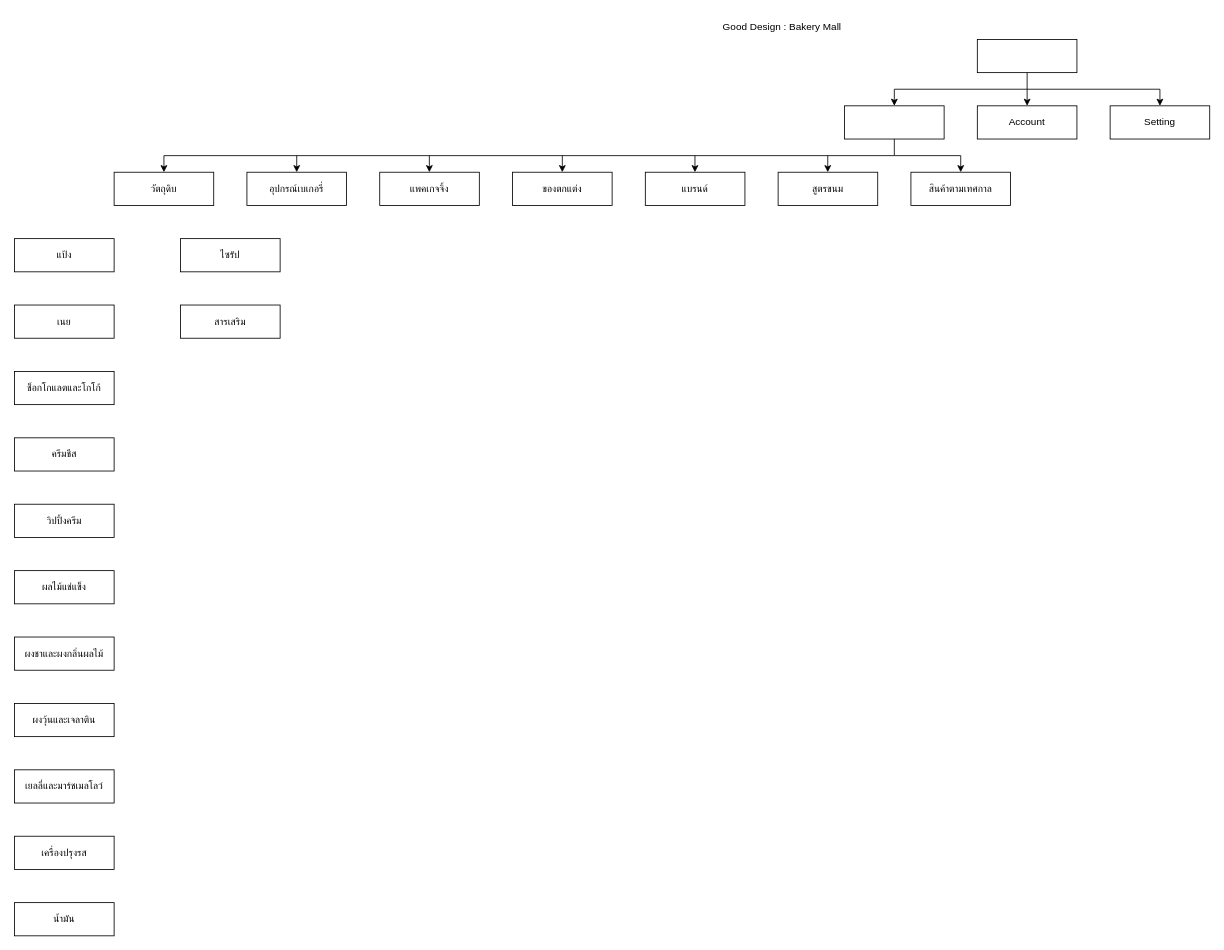
The diagram is 1224 pixels wide and 950 high, and some of its shapes have lost their labels. The shapes that lost their labels are listed below. From the top down, each one's box as (x1, y1, x2, y2) in pixels, then its label:
(976, 39, 1077, 73): หน้าหลัก
(844, 105, 944, 139): Menu
